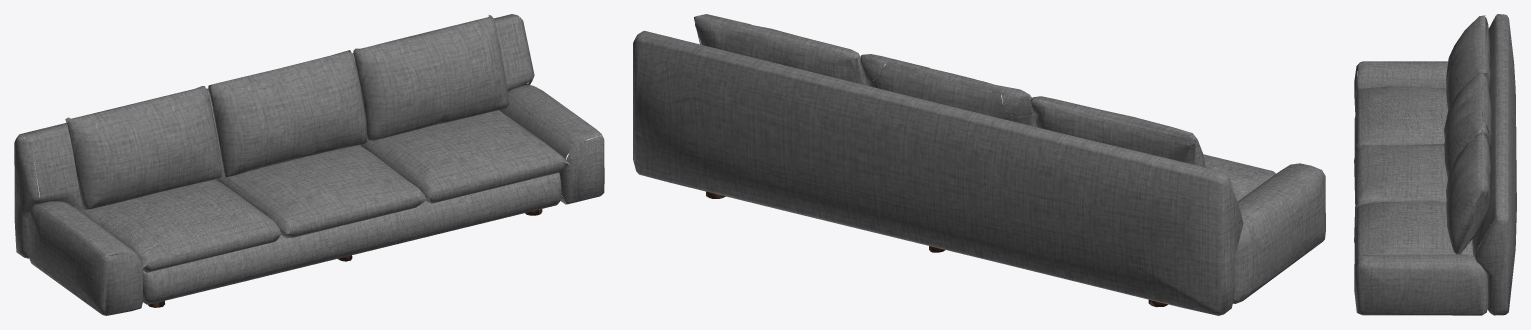
File: sofa-v4.glb
3 views of the same model, side by side, from view 1: azimuth 30°, elevation 25°; view 2: azimuth 150°, elevation 25°; view 3: azimuth 270°, elevation 25° (orthographic). The views are drawn at different scales.
Visible parts, largest first — view 1: defaultMaterial.001; view 2: defaultMaterial.001; view 3: defaultMaterial.001.
Boxes of the visible parts, bbox=[...] form: defaultMaterial.001: bbox=[14, 14, 604, 315]; defaultMaterial.001: bbox=[633, 14, 1325, 315]; defaultMaterial.001: bbox=[1354, 14, 1516, 315].
Size of the model in its own units: 2 by 0.5376 by 0.6581.
Materials: 2 (2 with a texture image).
